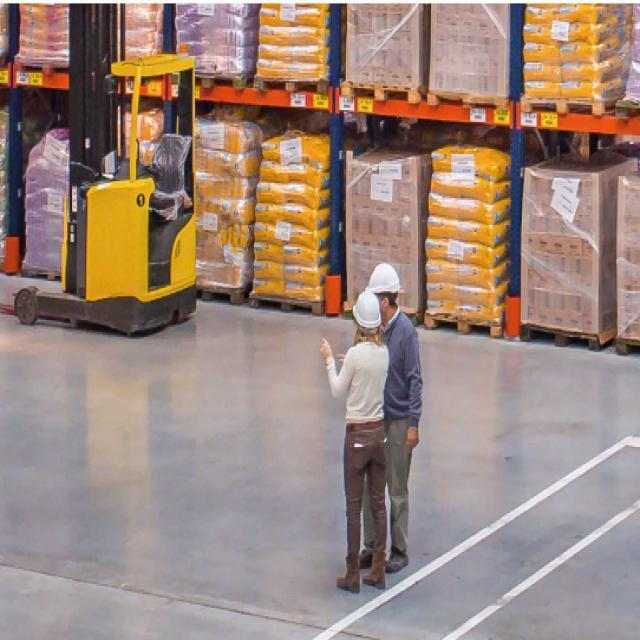boots: (348, 536, 414, 574)
helmet: (346, 288, 386, 344), (366, 260, 406, 312)
